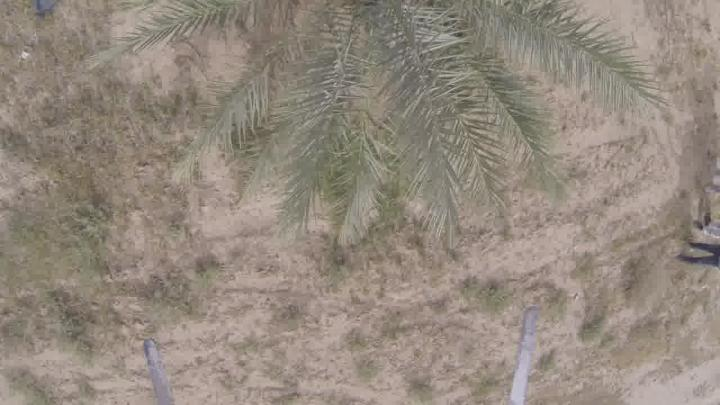Date-Palm-Crown: (263, 1, 505, 144)
